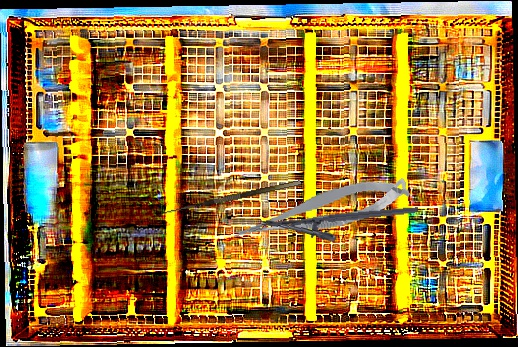Hook Surgical: (158, 180, 303, 223)
Micro Scissor: (226, 173, 415, 246)
Needle Holder: (262, 206, 420, 248)
